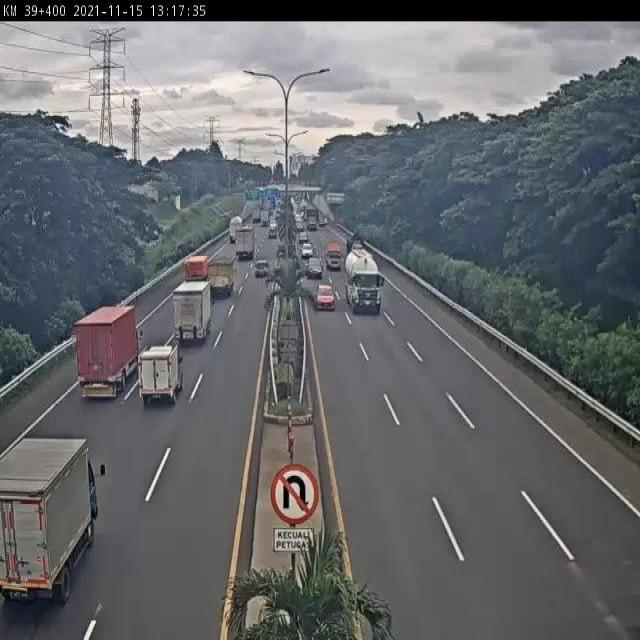Car: (314, 284, 336, 311), (306, 256, 323, 278), (254, 260, 270, 279)
Truck: (0, 436, 99, 600), (73, 304, 139, 400), (344, 244, 384, 316), (138, 341, 182, 406), (172, 278, 212, 346), (207, 253, 236, 298), (234, 225, 256, 261), (184, 256, 209, 282), (325, 238, 344, 270), (229, 216, 242, 244), (306, 207, 318, 230), (252, 206, 261, 223), (260, 210, 269, 226), (639, 92, 640, 95)
